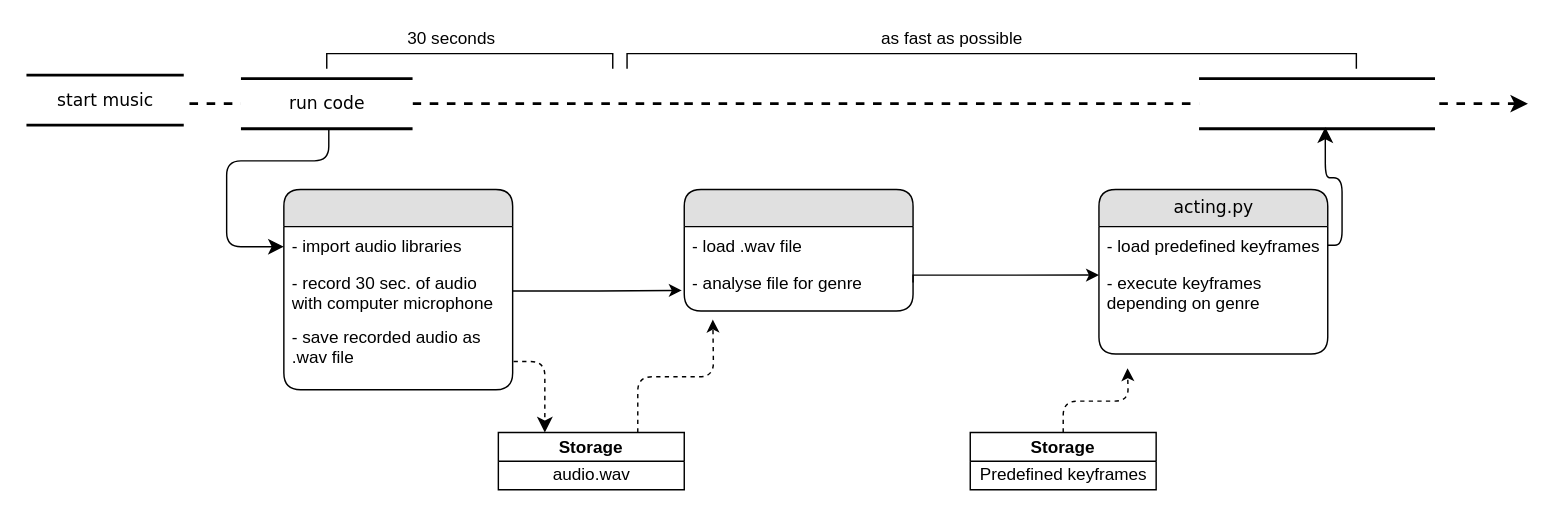
This 1564x515 diagram has some shape labels left out. Here are the shapes that lost their labels. From the top down, the box of each, then its label:
(1197, 77, 1436, 129): start dancing in simspark
(683, 188, 913, 311): thinking.py
(282, 188, 513, 390): sensing.py
